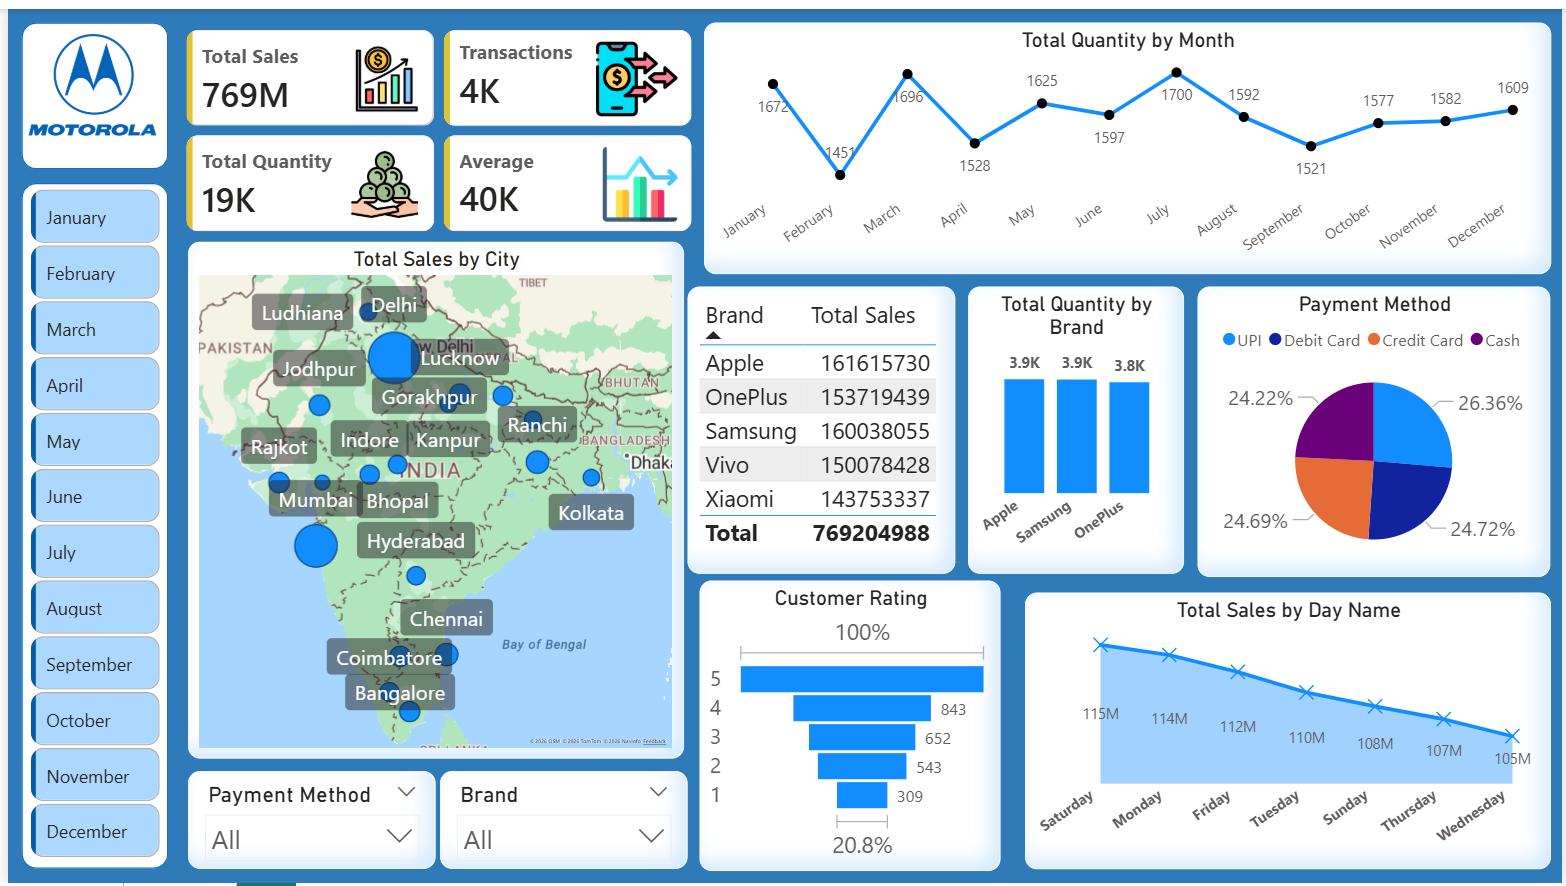

Layout of this report page (visuals, bound fields, positions):
{"tool":"powerbi","page":{"name":"Page 1","canvas":[1280,720],"ordinal":0},"visuals":[{"type":"shape","box":[10.6,10.6,121,121],"z":0},{"type":"image","box":[9.3,10.6,121,110.3],"z":1000},{"type":"shape","box":[10.6,143.6,121,564.9],"z":2000},{"type":"advancedSlicerVisual","fields":{"Values":["Mobile Data.Date.Variation.Date Hierarchy.Month"]},"box":[13.3,143.6,117,566.2],"z":3000},{"type":"cardVisual","fields":{"Data":["Mobile Data.Total Sales","Mobile Data.Transactions","Mobile Data.Total Quantity","Mobile Data.Average"]},"box":[130.3,0,451.9,200.7],"z":4000},{"type":"azureMap","fields":{"Category":["Mobile Data.City"],"Size":["Mobile Data.Total Sales"]},"box":[148.4,191,408.5,426.1],"z":5000},{"type":"lineChart","fields":{"Y":["Mobile Data.Total Quantity"],"Category":["Mobile Data.Date.Variation.Date Hierarchy.Month","Mobile Data.Date.Variation.Date Hierarchy.Day"]},"box":[572.9,10.6,697.8,207.4],"z":6000},{"type":"funnel","title":"Customer Rating","fields":{"Y":["CountNonNull(Mobile Data.Customer Ratings)"],"Category":["Mobile Data.Customer Ratings"]},"box":[570.1,470.2,248.3,239.5],"z":7000},{"type":"tableEx","fields":{"Values":["Mobile Data.Brand","Mobile Data.Total Sales"]},"box":[559.8,229.2,220.4,236.6],"z":8000},{"type":"clusteredColumnChart","fields":{"Category":["Mobile Data.Brand"],"Y":["Mobile Data.Total Quantity"]},"box":[790.5,229.2,177.8,236.6],"z":9000},{"type":"pieChart","title":"Payment Method","fields":{"Category":["Mobile Data.Payment Method"],"Y":["Mobile Data.Transactions"]},"box":[980.1,229.2,290.9,239.5],"z":10000},{"type":"stackedAreaChart","fields":{"Category":["Mobile Data.Day Name"],"Y":["Mobile Data.Total Sales"]},"box":[837.6,480.5,433.5,227.8],"z":11000},{"type":"slicer","fields":{"Values":["Mobile Data.Payment Method"]},"box":[148.4,627.4,204.2,80.8],"z":12000},{"type":"slicer","fields":{"Values":["Mobile Data.Brand"]},"box":[355.6,627.4,204.2,80.8],"z":13000}]}

Visuals, with their boxes in screenshot pixels (x1, y1, x2, y2), scaled from the page's 1280x720 canvas onto the 1566x886 screenshot:
shape: 13,13,161,162
image: 11,13,159,149
shape: 13,177,161,872
advancedSlicerVisual - Mobile Data.Date.Variation.Date Hierarchy.Month: 16,177,159,873
cardVisual - Mobile Data.Total Sales x Mobile Data.Transactions: 159,0,712,247
azureMap - Mobile Data.City x Mobile Data.Total Sales: 182,235,681,759
lineChart - Mobile Data.Total Quantity x Mobile Data.Date.Variation.Date Hierarchy.Month: 701,13,1555,268
"Customer Rating" funnel: 697,579,1001,873
tableEx - Mobile Data.Brand x Mobile Data.Total Sales: 685,282,955,573
clusteredColumnChart - Mobile Data.Brand x Mobile Data.Total Quantity: 967,282,1185,573
"Payment Method" pieChart: 1199,282,1555,577
stackedAreaChart - Mobile Data.Day Name x Mobile Data.Total Sales: 1025,591,1555,872
slicer - Mobile Data.Payment Method: 182,772,431,871
slicer - Mobile Data.Brand: 435,772,685,871
